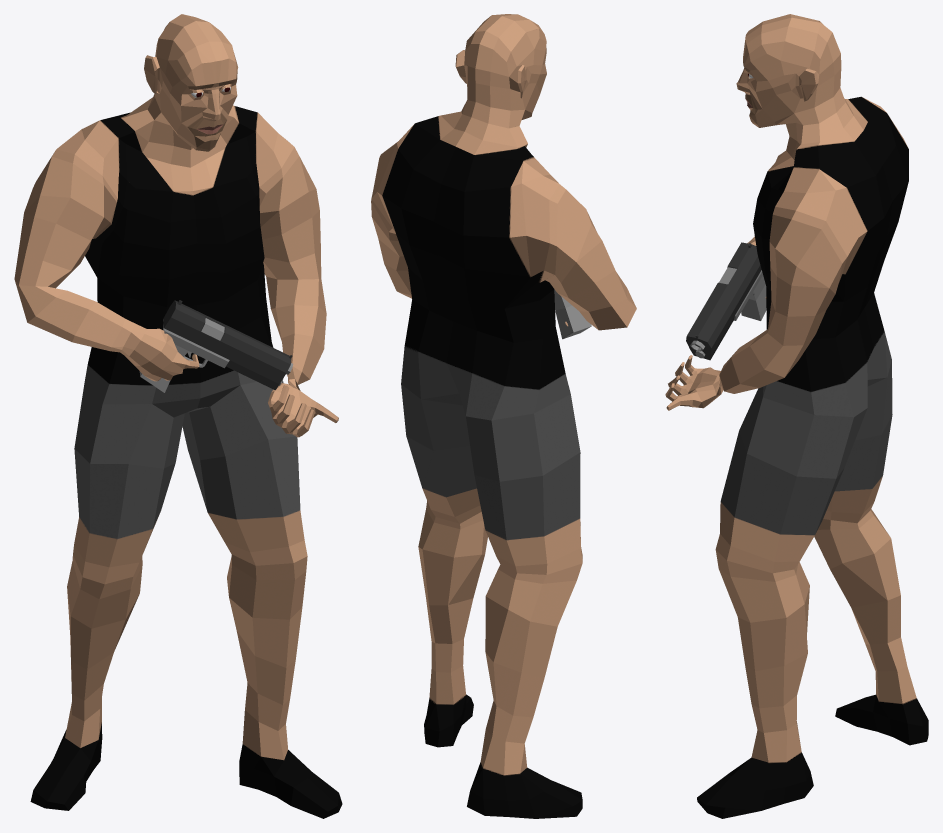
The model's file is PlayerIdle(78).obj.
3 views of the same model, side by side, from view 1: azimuth 30°, elevation 25°; view 2: azimuth 150°, elevation 25°; view 3: azimuth 270°, elevation 25° (orthographic). The views are drawn at different scales.
Parts seen in each view (by area): view 1: Plane002, Box003; view 2: Plane002, Box003; view 3: Plane002, Box003.
Boxes of the visible parts, x1,y1,x2,y2 form: Plane002: (14,14,342,818); Box003: (139,300,293,392); Plane002: (371,14,636,818); Box003: (554,289,591,339); Plane002: (665,14,928,818); Box003: (686,242,766,360).
Size of the model in its own units: 669 by 1799 by 572.
